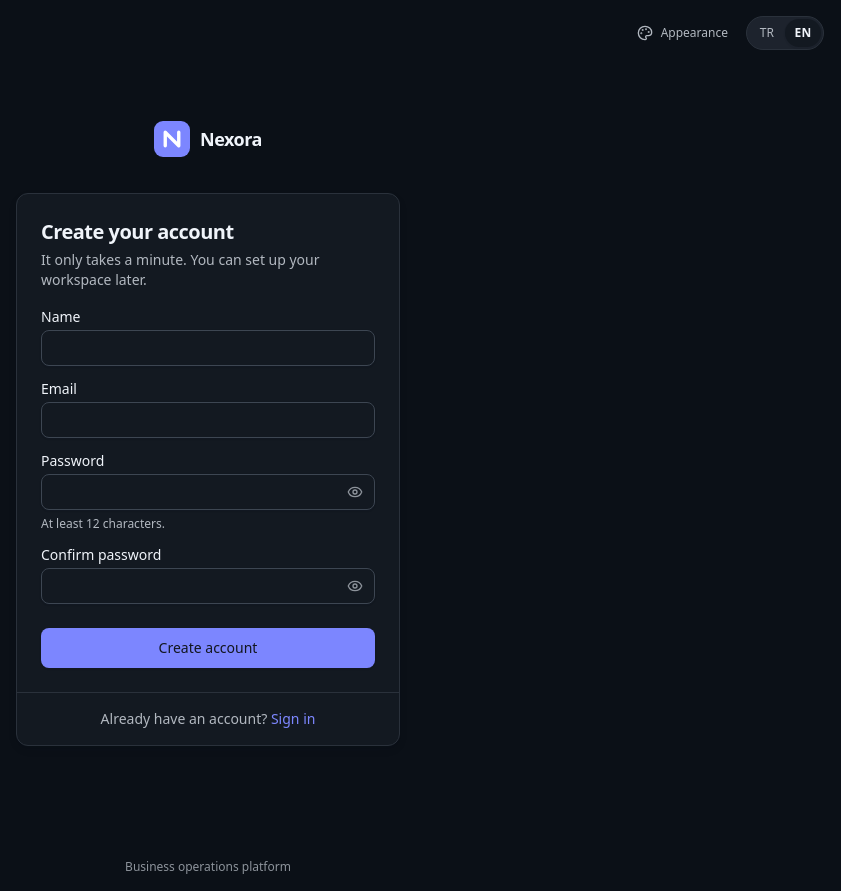
RegisterPage › shows a loading state while submitting
Check: the heading "Create your account" is shown, box [41,218,234,244]
In the field labelled "Name": point(208, 348) [41,330,375,366], type "Ada Example"
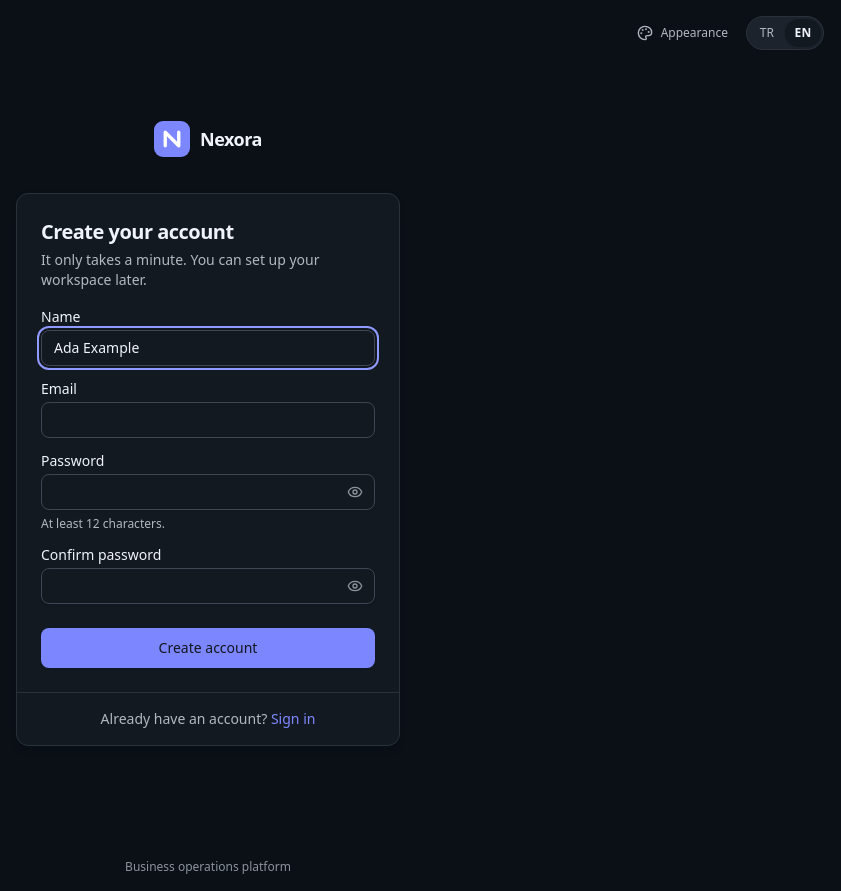
In the field labelled "Email": point(208, 420) [41,402,375,438], type "ada@test.example"
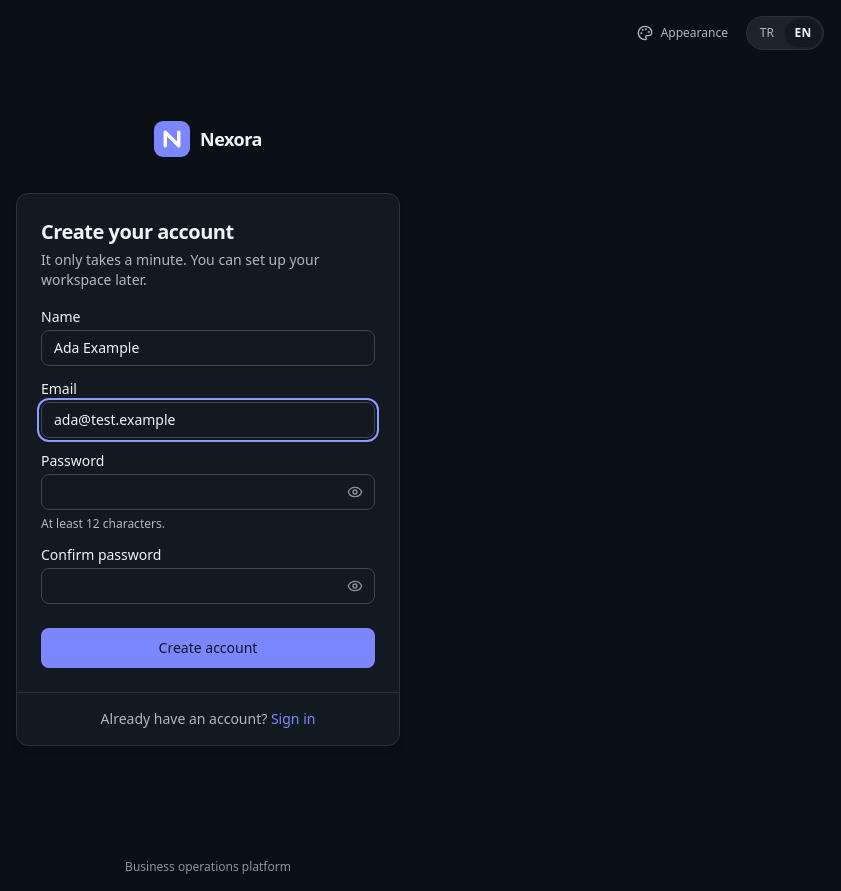
In the password field labelled "Password": point(208, 492) [41,474,375,510], type "Correct-Horse-Battery-9"
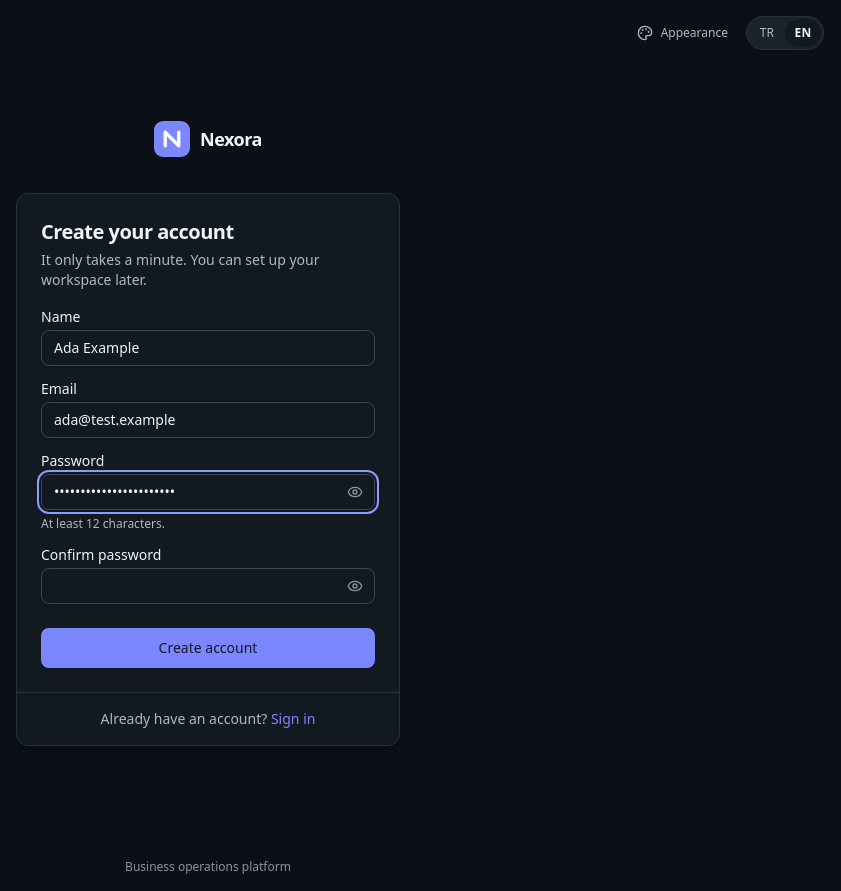
In the password field labelled "Confirm password": point(208, 586) [41,568,375,604], type "Correct-Horse-Battery-9"
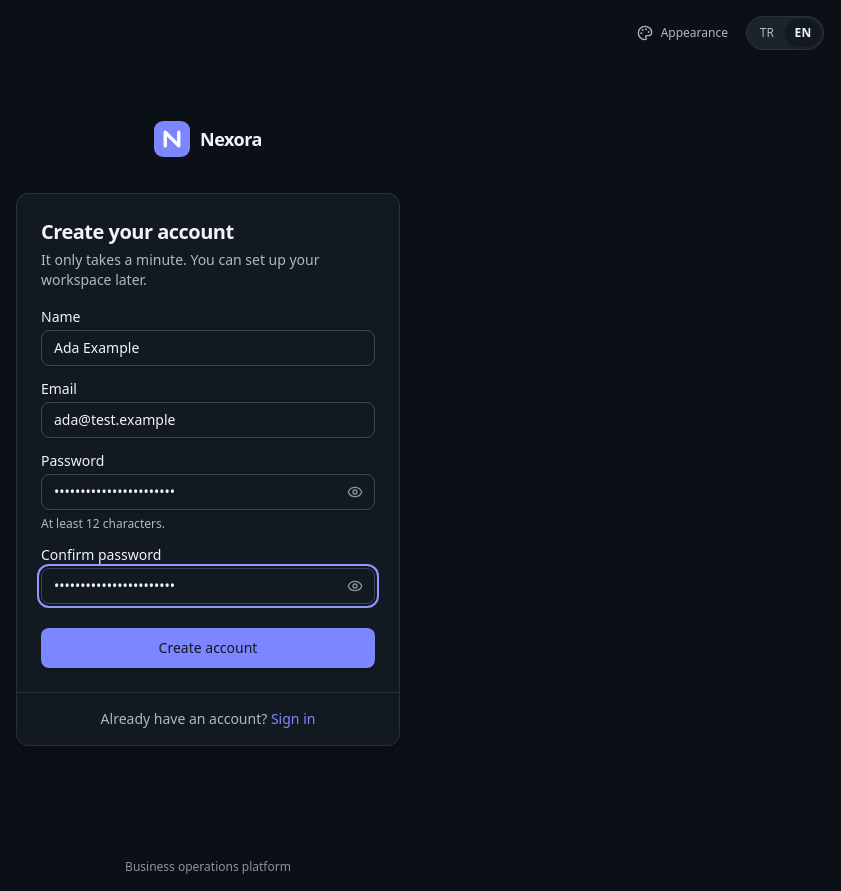
Click the button "Create account": point(208, 648) [41,628,375,668]
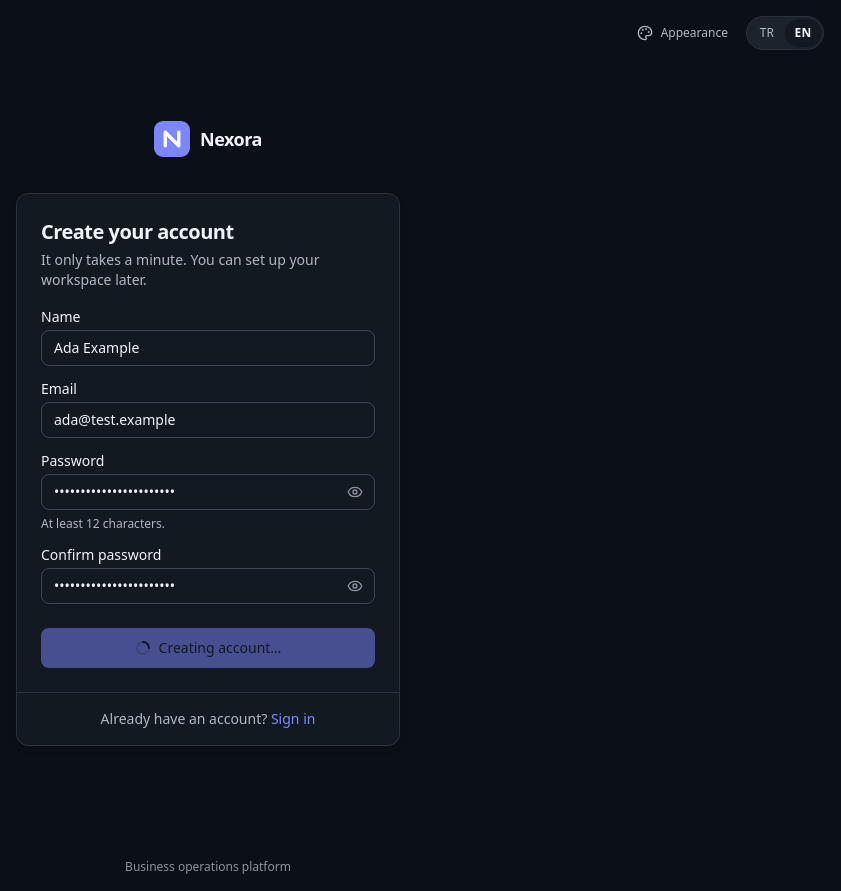
Check: the button "Creating account…" is disabled, box [41,628,375,668]
